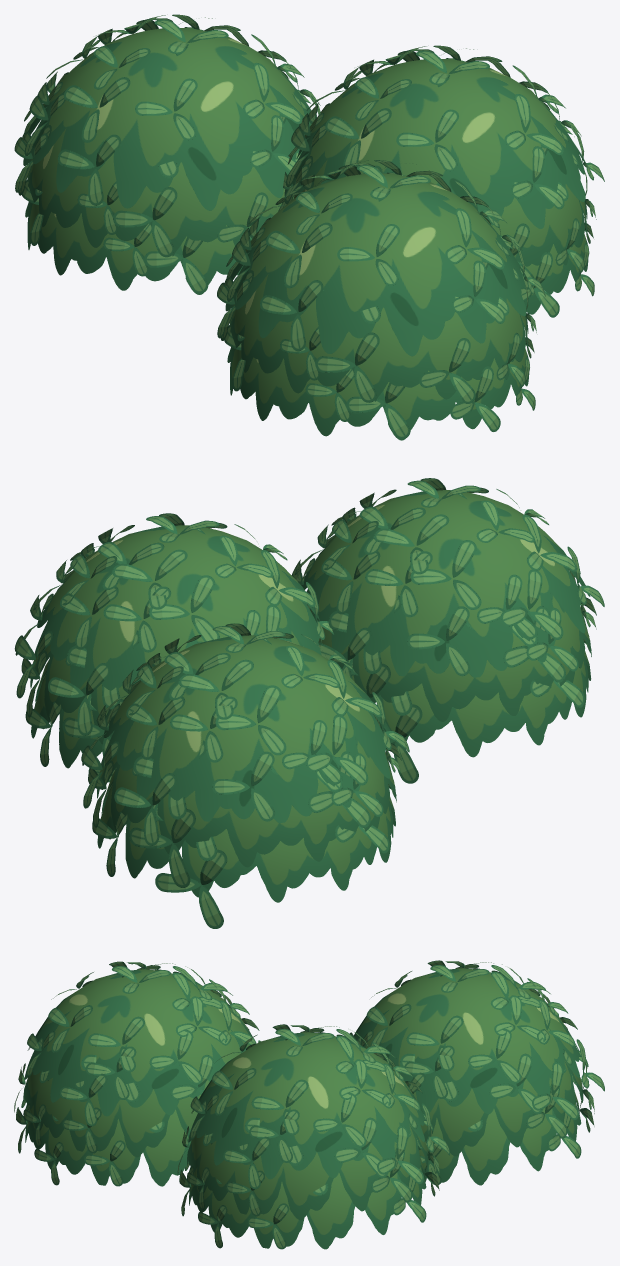
Rendered from ThreeBush.fbx.
3 renders of one model, top to bottom at view 1: azimuth 30°, elevation 25°; view 2: azimuth 150°, elevation 25°; view 3: azimuth 270°, elevation 25°, orthographic. The views are drawn at different scales.
Parts seen in each view (by area): view 1: Sphere.017; view 2: Sphere.017; view 3: Sphere.017.
Part boxes in pixels (x1,y1,x2,y2): Sphere.017: (14,14,604,440); Sphere.017: (14,478,604,928); Sphere.017: (14,960,604,1249).
Bounding box in the file's own units: 339 × 163 × 484.
